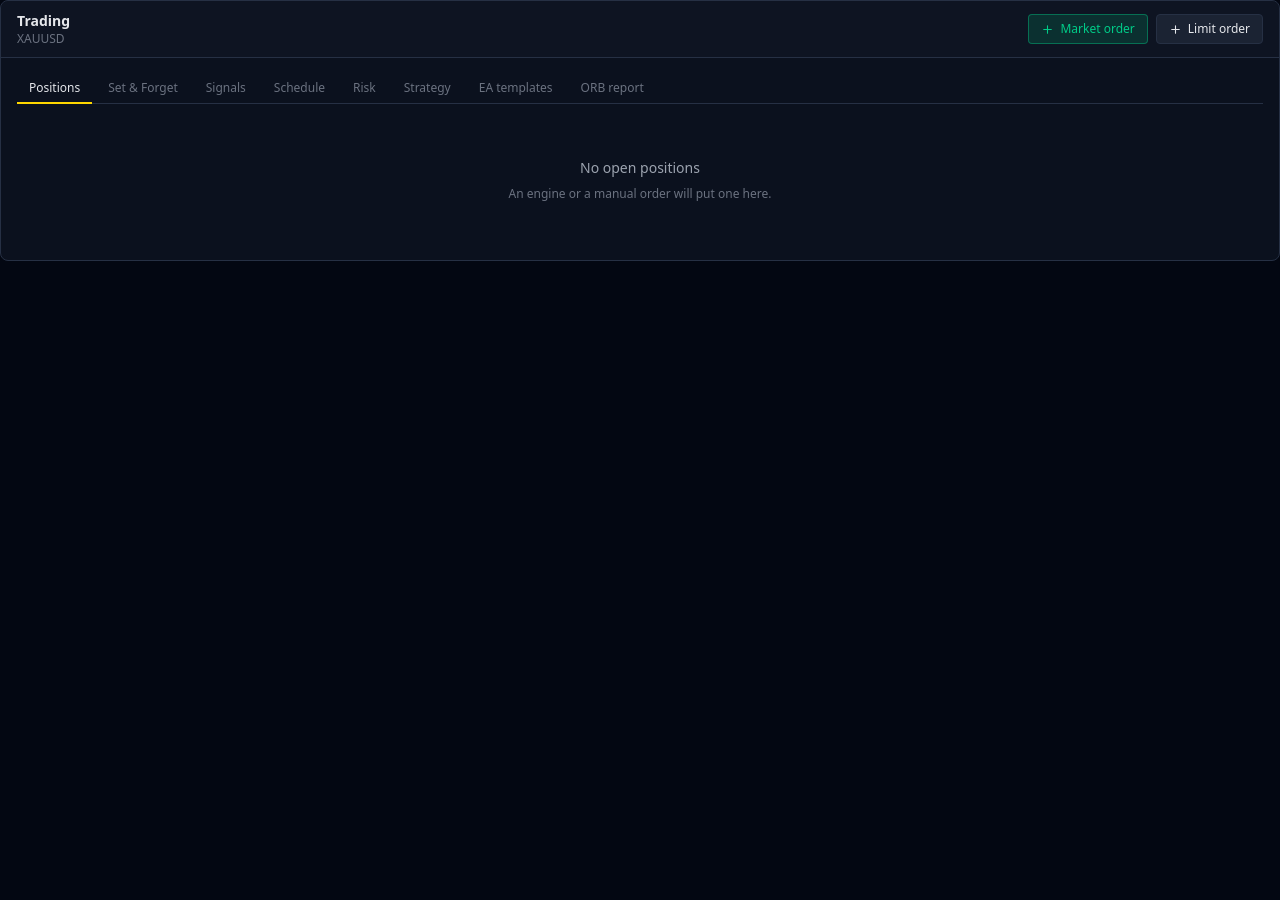
it: editing a pending signal › opens the row it was asked to open
The image size is (1280, 900).
What coordinates should you click on to do the following:
click the tab "Signals"
I would click on:
 (226, 89)
Its box is left=194, top=74, right=258, bottom=104.
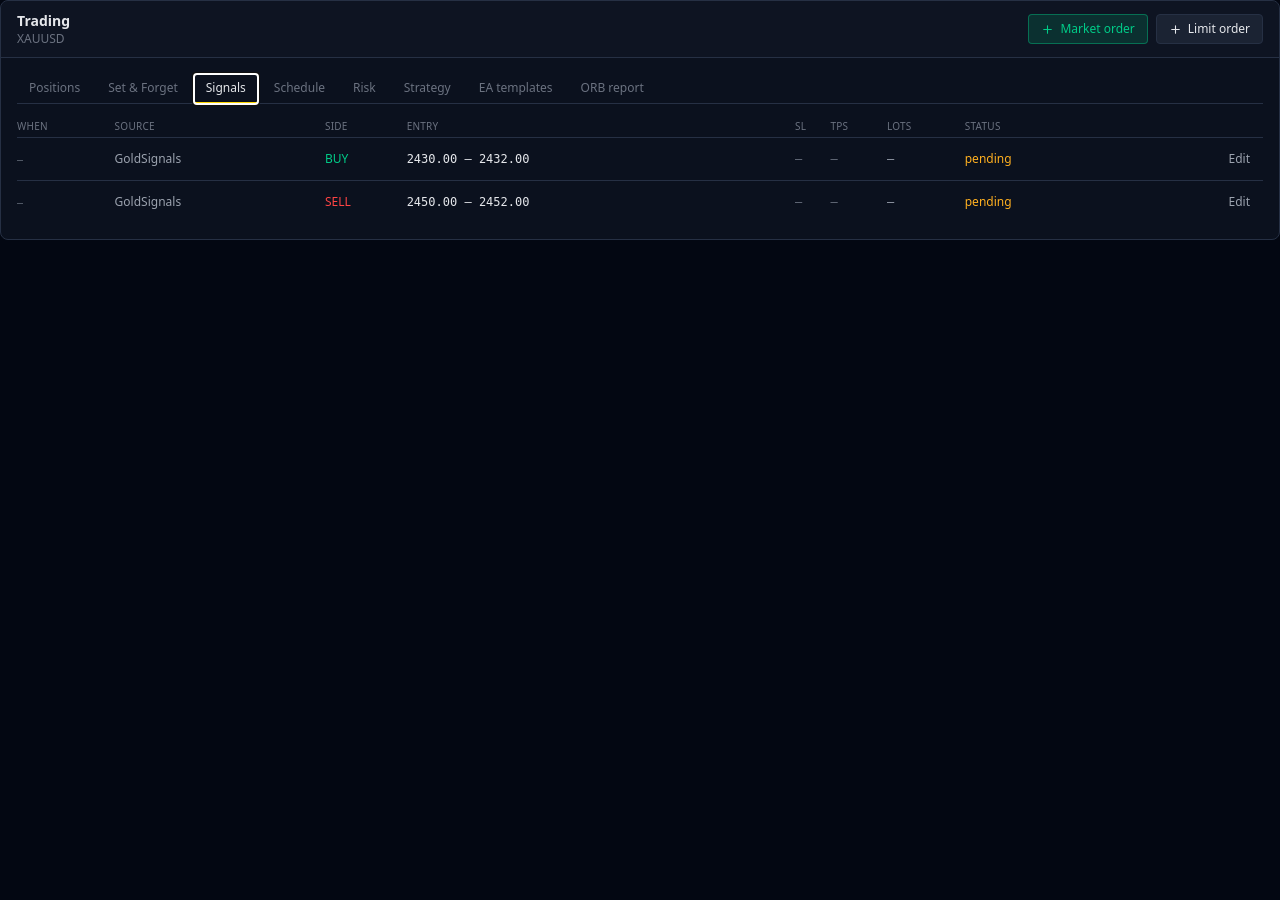
What coordinates should you click on to do the following:
click the button "Edit" in the row of "SELL"
I would click on:
 (1239, 202)
Its box is left=1216, top=187, right=1263, bottom=217.
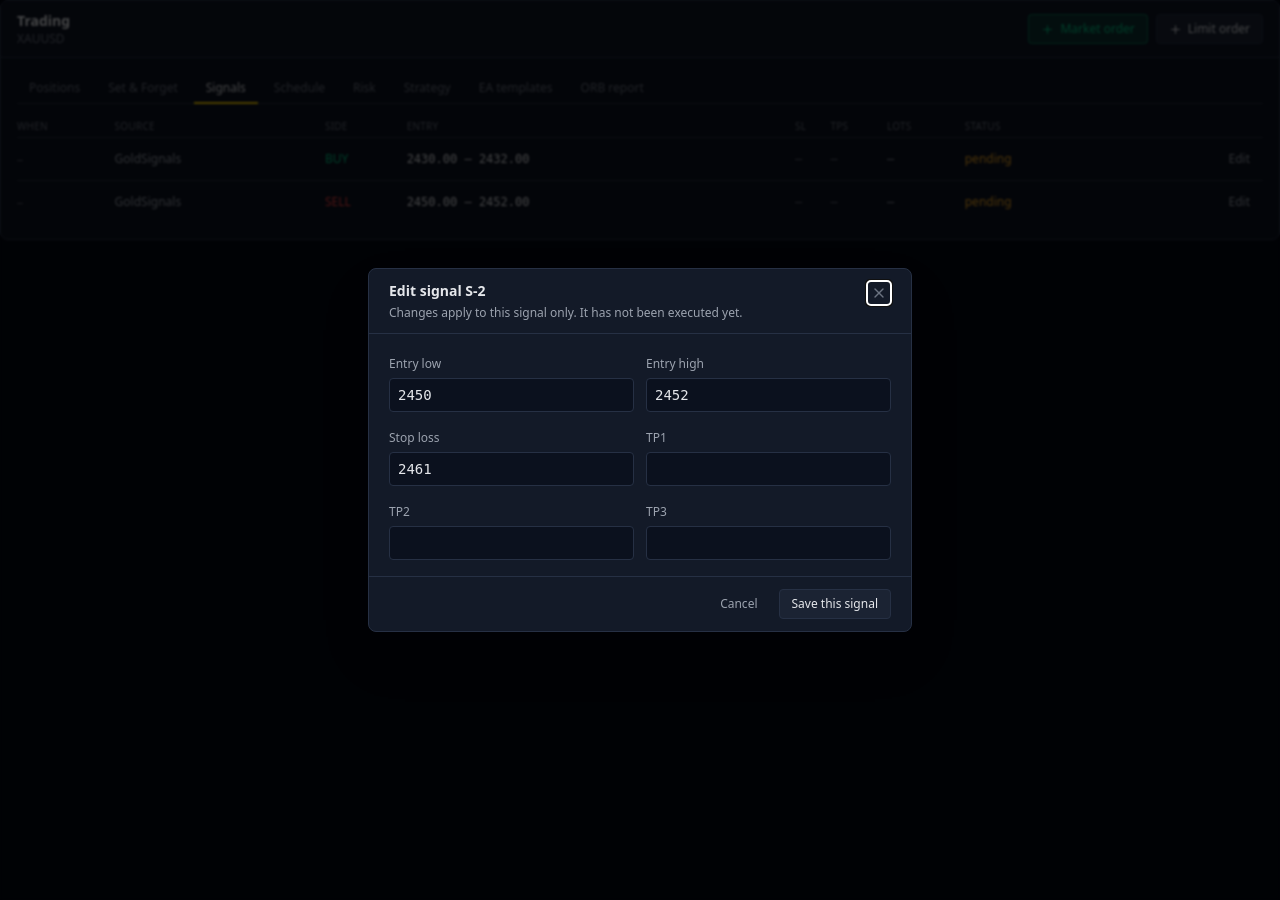
Check: the heading "Edit signal S-2" is shown, box left=389, top=281, right=486, bottom=300
Check: the field labelled "Entry low" holds "2450", box left=389, top=378, right=634, bottom=412
